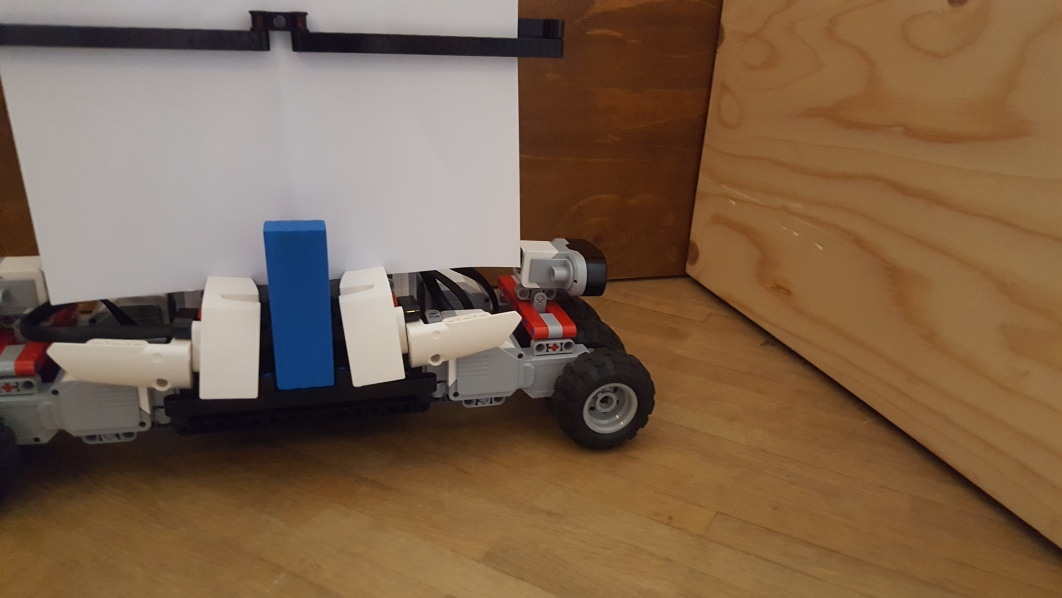beam: (260, 215, 338, 392)
